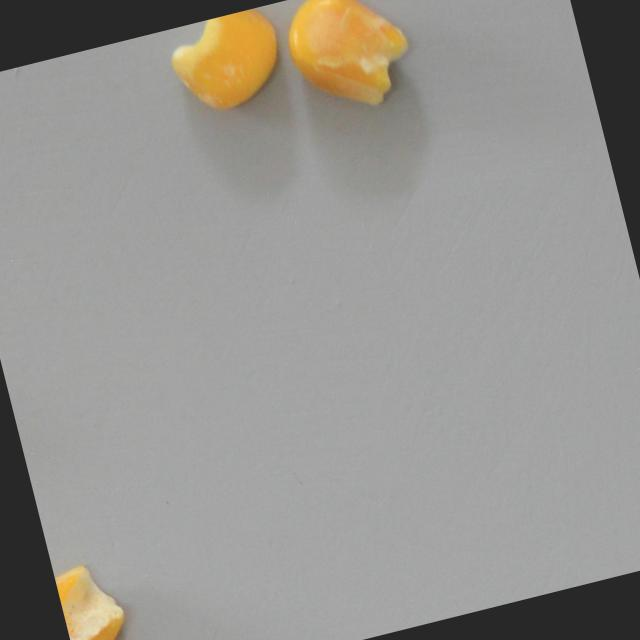dañado: (274, 0, 429, 129)
pelicula: (158, 3, 291, 122)
punto_negro: (52, 554, 135, 640)
